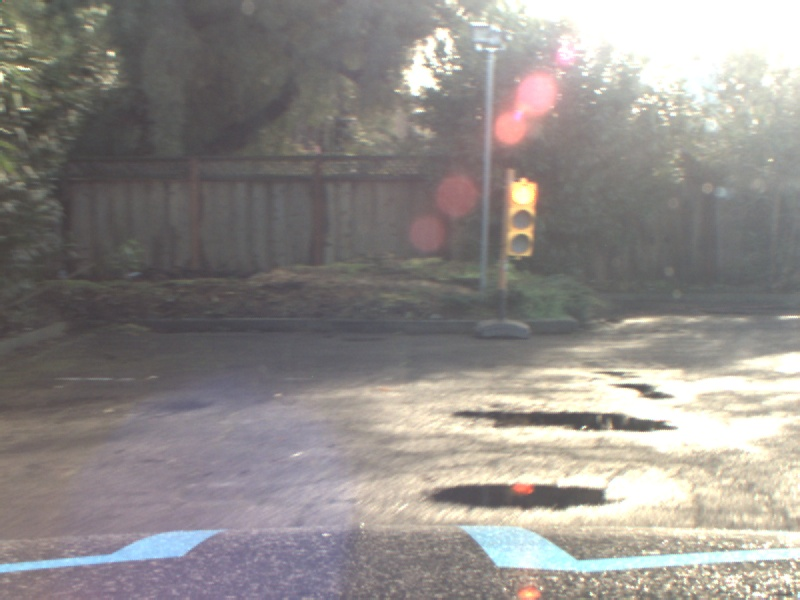Red: (505, 178, 534, 255)
